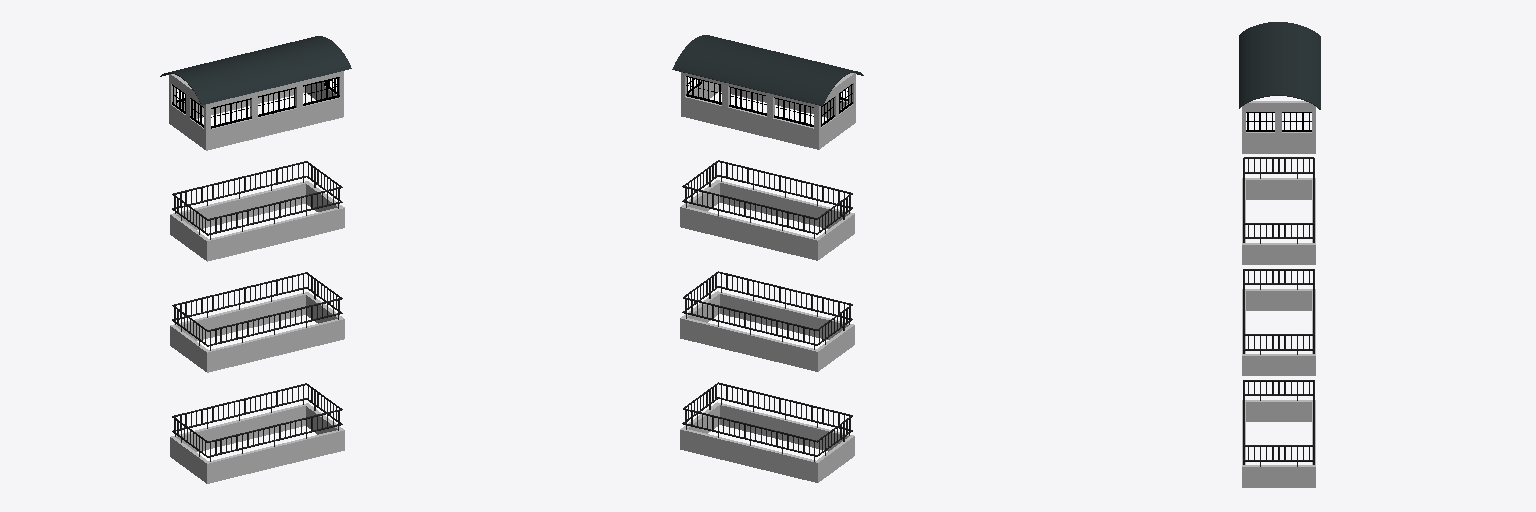
Rendered from balcon_7.obj.
3 views of the same model, side by side, from view 1: azimuth 30°, elevation 25°; view 2: azimuth 150°, elevation 25°; view 3: azimuth 270°, elevation 25° (orthographic).
Parts seen in each view (by area): view 1: BARROTES_PISOS_Cylinder.002; view 2: BARROTES_PISOS_Cylinder.002; view 3: BARROTES_PISOS_Cylinder.002.
Boxes of the visible parts, x1=… form: BARROTES_PISOS_Cylinder.002: x1=160, y1=36, x2=351, y2=483; BARROTES_PISOS_Cylinder.002: x1=672, y1=35, x2=863, y2=482; BARROTES_PISOS_Cylinder.002: x1=1239, y1=22, x2=1320, y2=487.
Bounding box in the file's own units: 7.78 × 19.54 × 3.69.